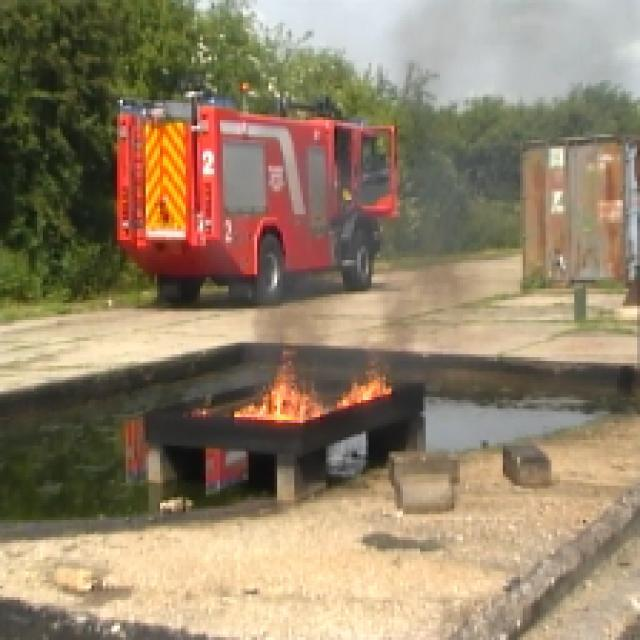Fire: (248, 372, 389, 417)
